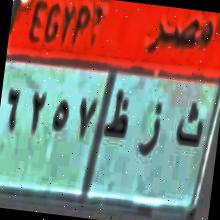2: (24, 86, 49, 142)
5: (48, 89, 74, 140)
6: (1, 81, 24, 137)
7: (72, 90, 102, 144)
Thaa: (100, 82, 134, 152)
thaa: (172, 94, 210, 156)
zay: (135, 94, 168, 164)
